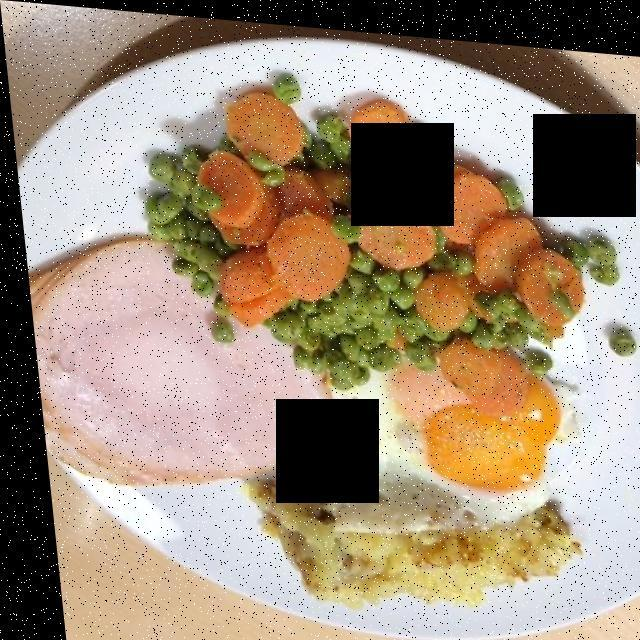egg: (326, 370, 594, 525)
ham: (27, 232, 324, 499)
rosti: (235, 478, 557, 591)
vegetables: (137, 79, 606, 383)
